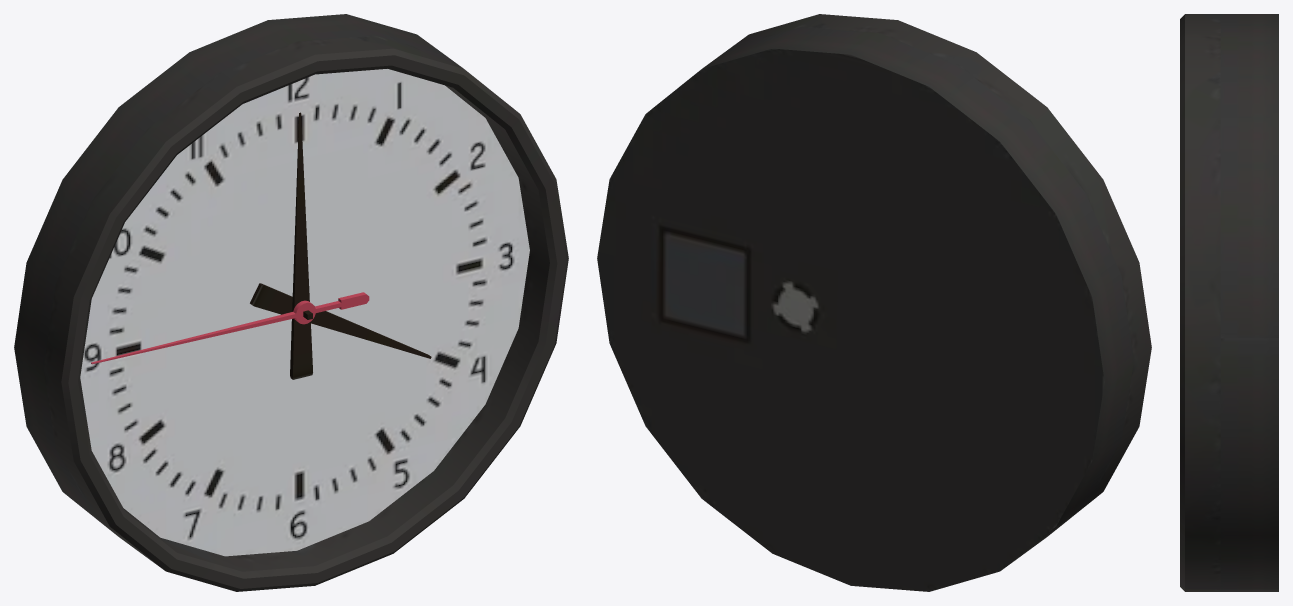
The model's file is clock.glb.
3 views of the same model, side by side, from view 1: azimuth 30°, elevation 25°; view 2: azimuth 150°, elevation 25°; view 3: azimuth 270°, elevation 25° (orthographic).
Parts seen in each view (by area): view 1: Analog_Clock_1; view 2: Analog_Clock_1; view 3: Analog_Clock_1.
Part boxes in pixels (<box>): Analog_Clock_1: <box>14,14,568,591</box>; Analog_Clock_1: <box>597,14,1151,591</box>; Analog_Clock_1: <box>1180,14,1278,591</box>.
Bounding box in the file's own units: 1000 × 1000 × 170.
1 material, 1 textured.
